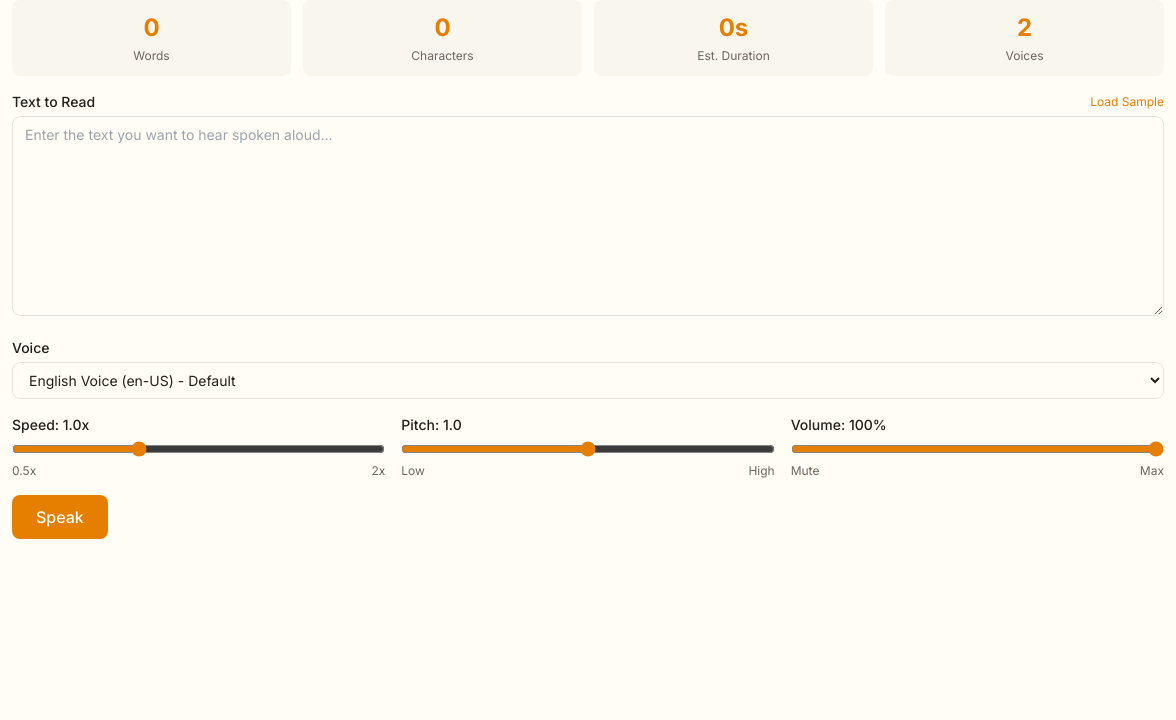
Test: TextToSpeech › updates word count when text is entered
This screenshot has width=1176, height=720.
In the text box named "Text to speak": (588, 216) [12,116,1164,316], type "Hello beautiful world"
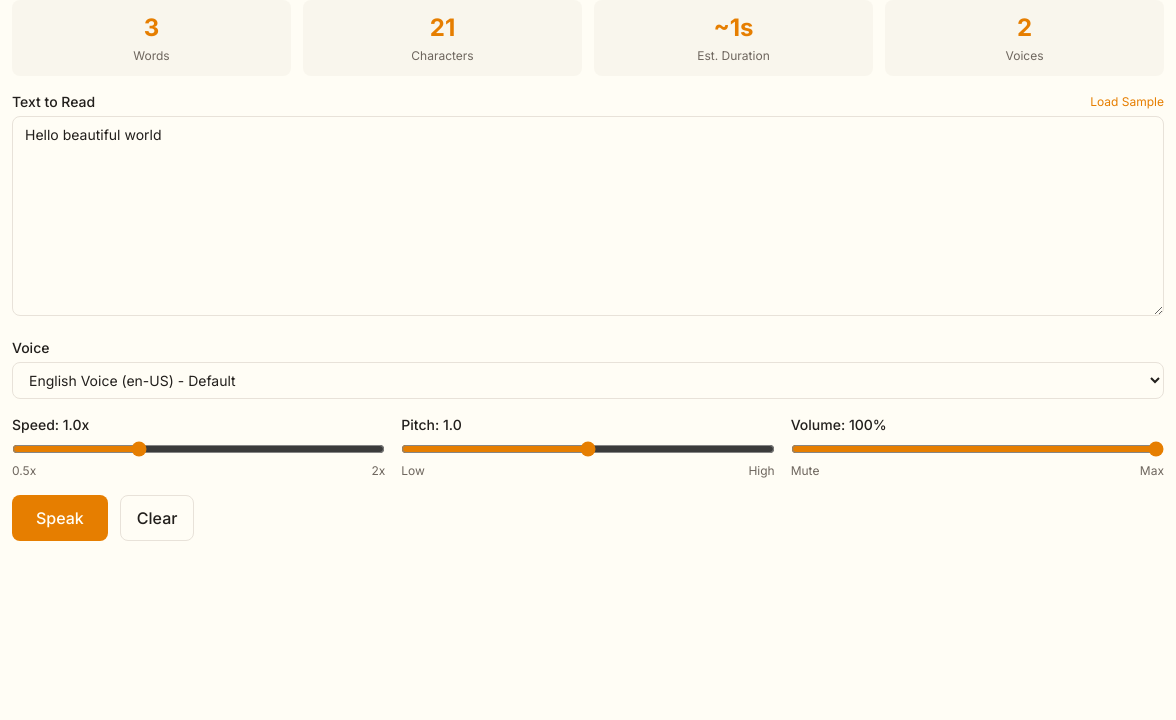
Result: the text "3" is shown at [144,13,159,42]
